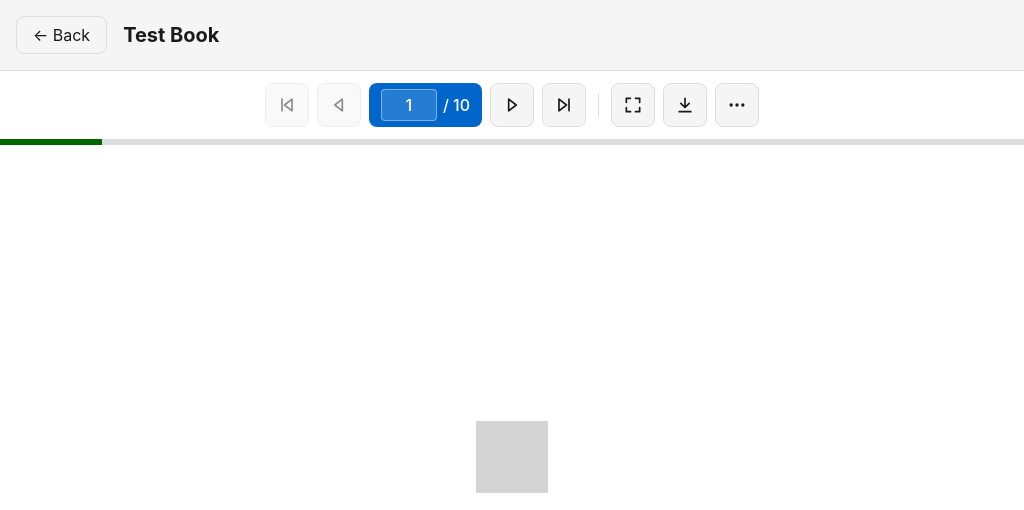
Test: ReaderPage actions menu › should close the menu when pressing Escape
The image size is (1024, 510).
Click the button named "More actions".
click(737, 105)  # box [715, 83, 759, 127]
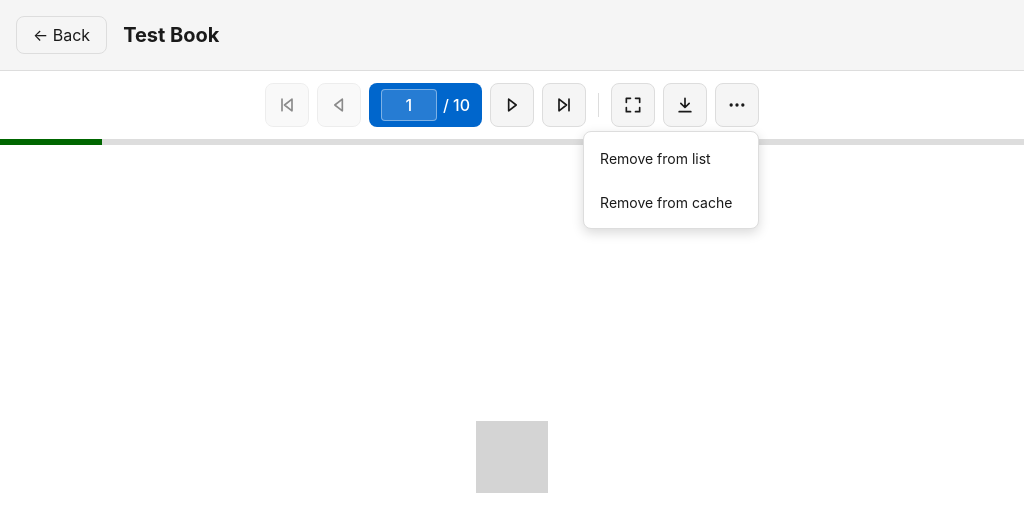
Result: the menu is shown at [583, 131, 759, 229]
Press Escape
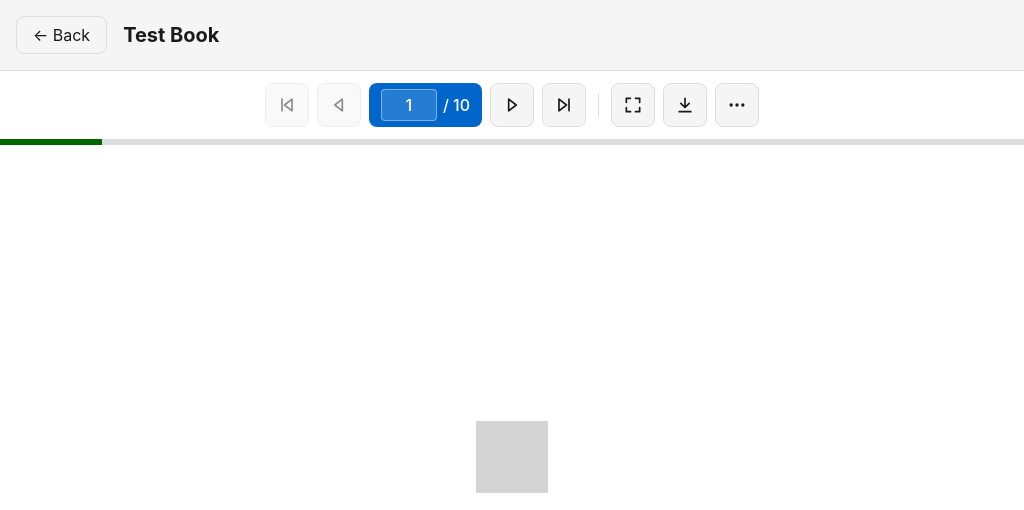
Result: the menu is gone
